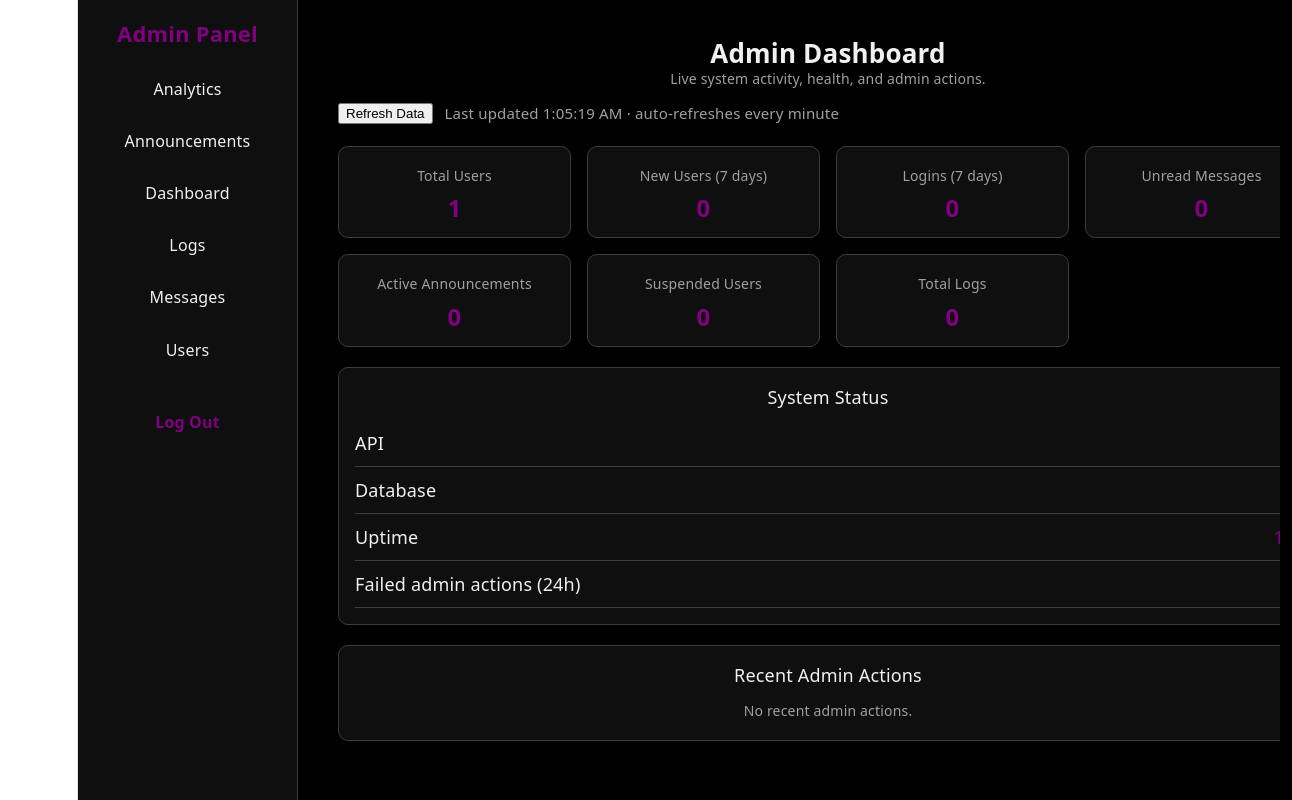
Admin pages › dashboard refreshes real API counts instead of holding initial snapshots
This screenshot has width=1292, height=800.
Check: the text "Total Users" is shown, box [417,166,492,185]
Check: the text "1" is shown, box [448,191,461,224]
What coordinates should you click on to do the following:
click the button "Refresh Data"
I would click on:
 (385, 113)
Its box is [338,103,432,124].
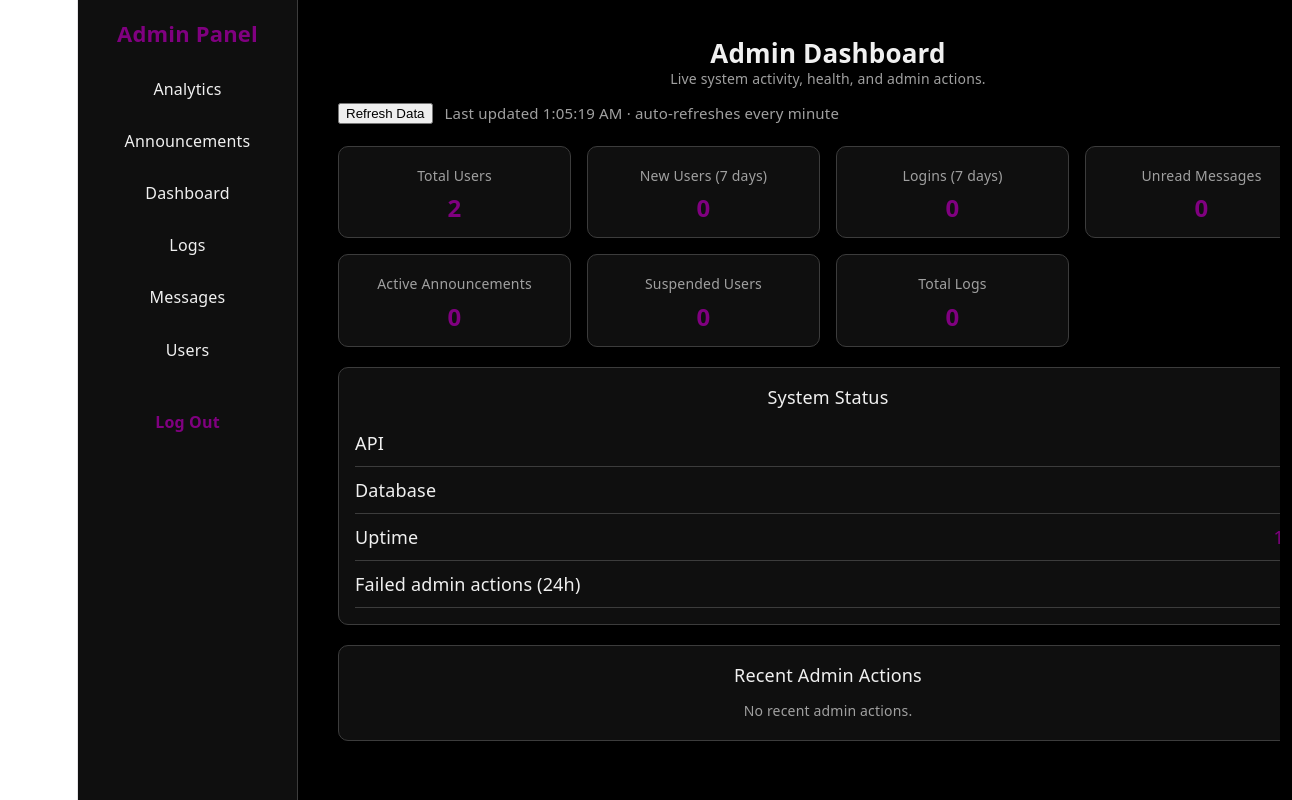
Check: the text "2" is shown, box [448,191,461,224]
